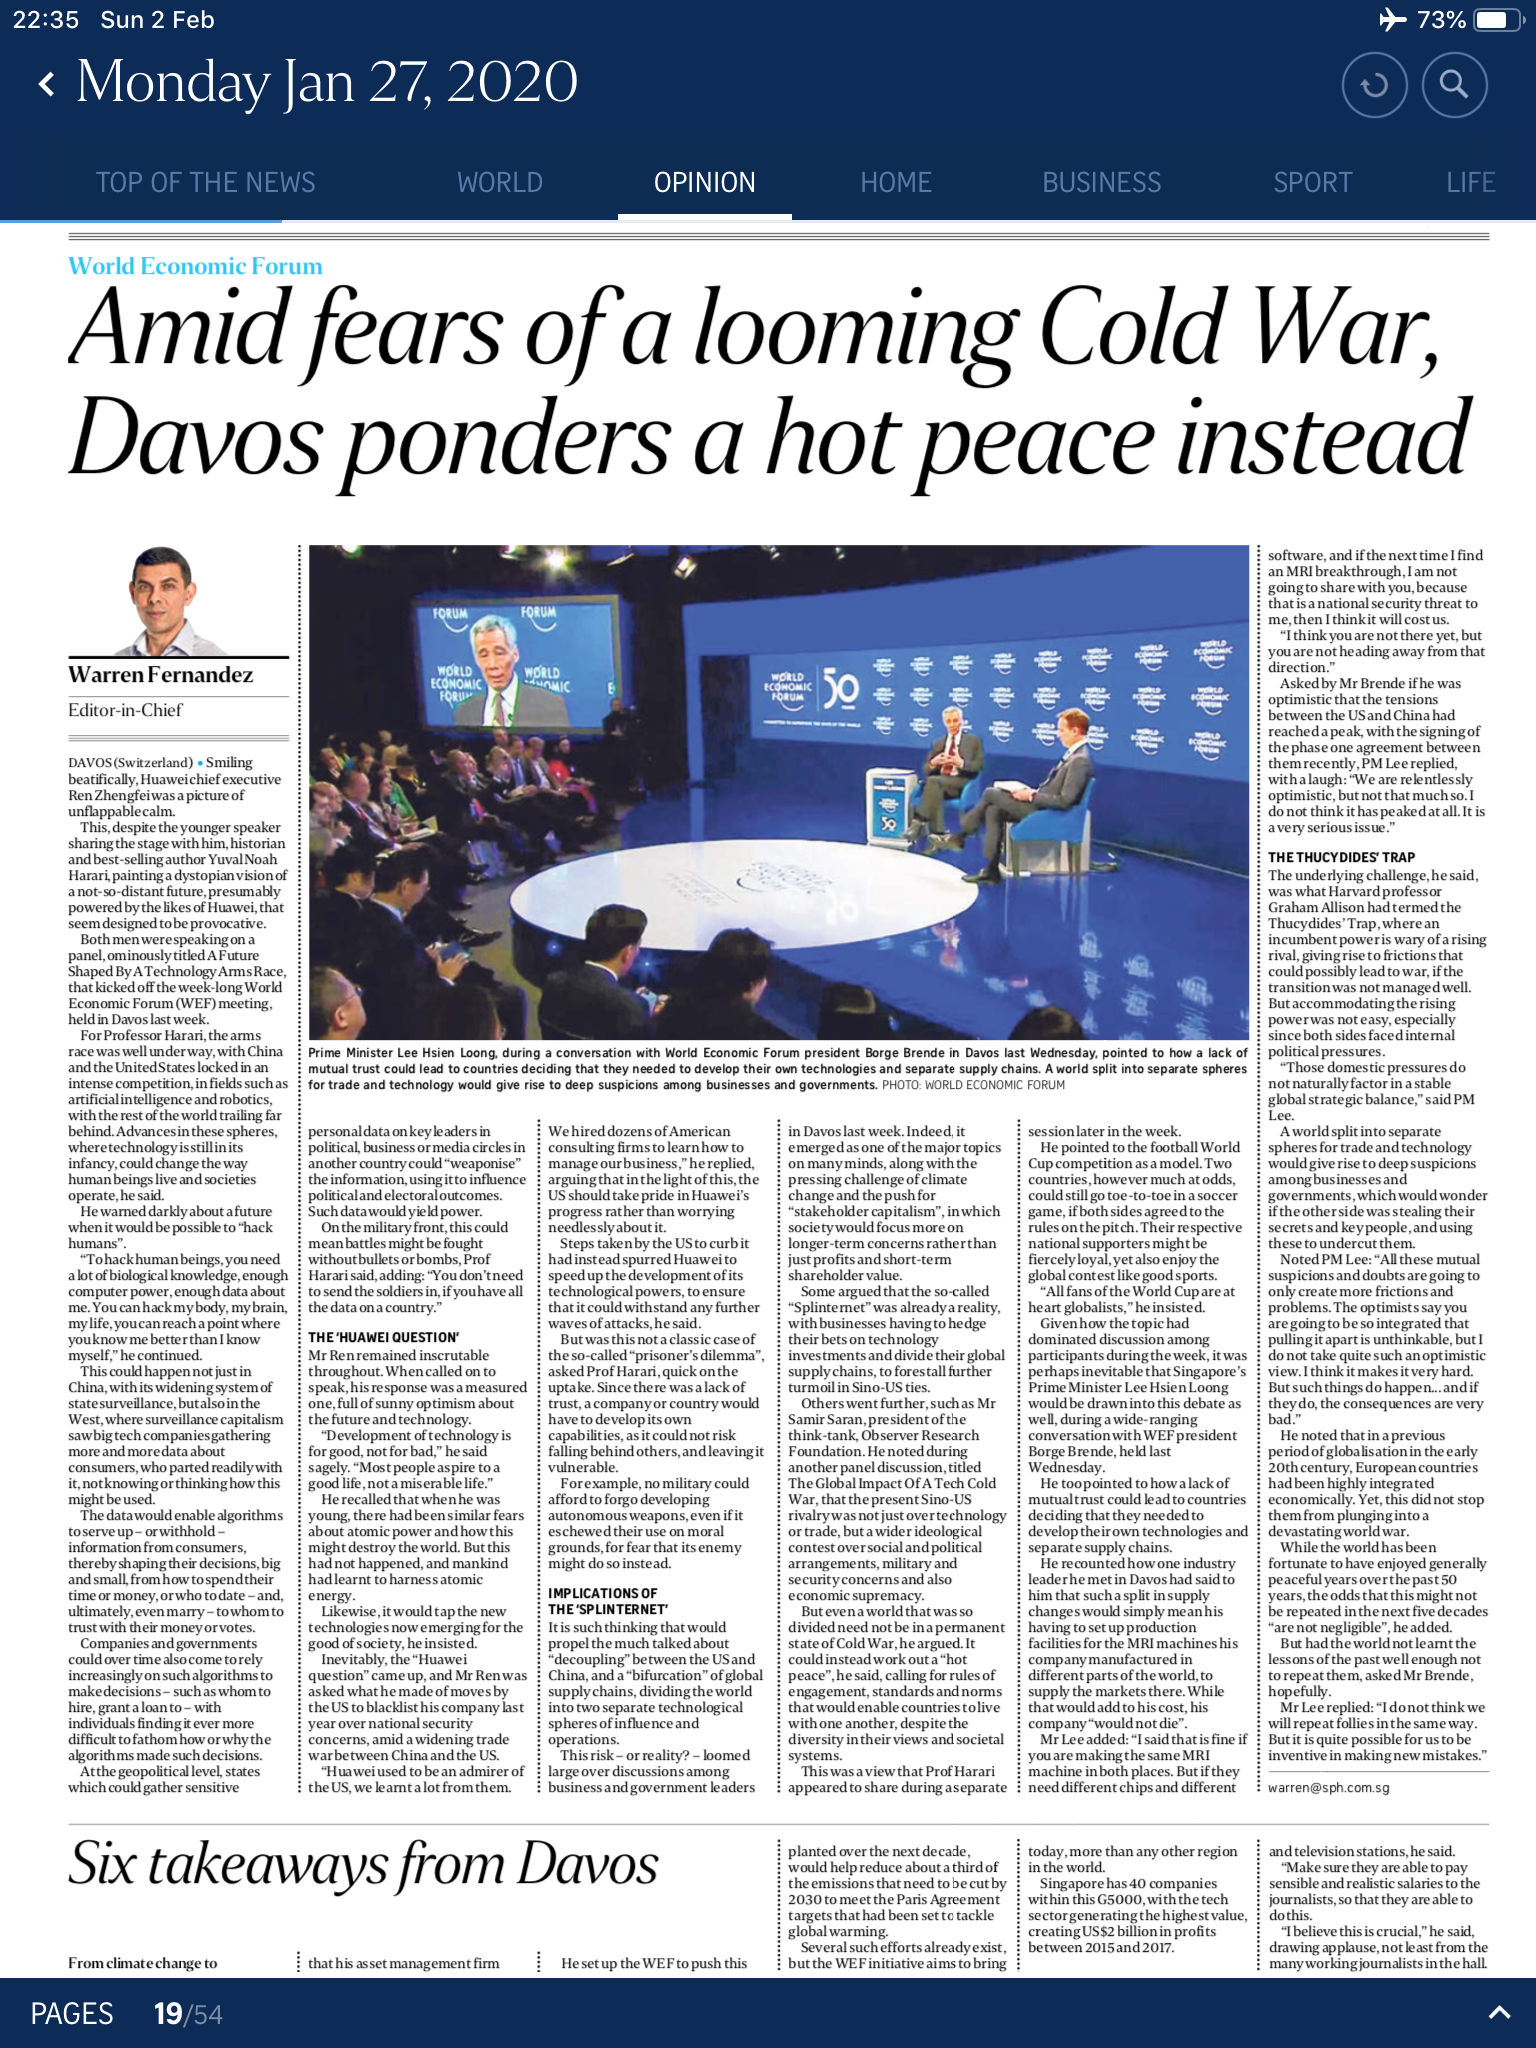Byline: (58, 658, 257, 722)
Headline: (63, 285, 1471, 493), (65, 1837, 660, 1895)
Illustration: (307, 1043, 1249, 1098)
Image: (308, 543, 1246, 1035), (110, 548, 231, 660)
Text: (1268, 539, 1489, 1769), (65, 753, 289, 1793), (308, 1122, 528, 1798), (545, 1118, 765, 1793), (786, 1121, 1005, 1796), (1028, 1124, 1246, 1800), (1263, 1843, 1488, 1967), (787, 1843, 1004, 1971), (1028, 1840, 1249, 1959)
